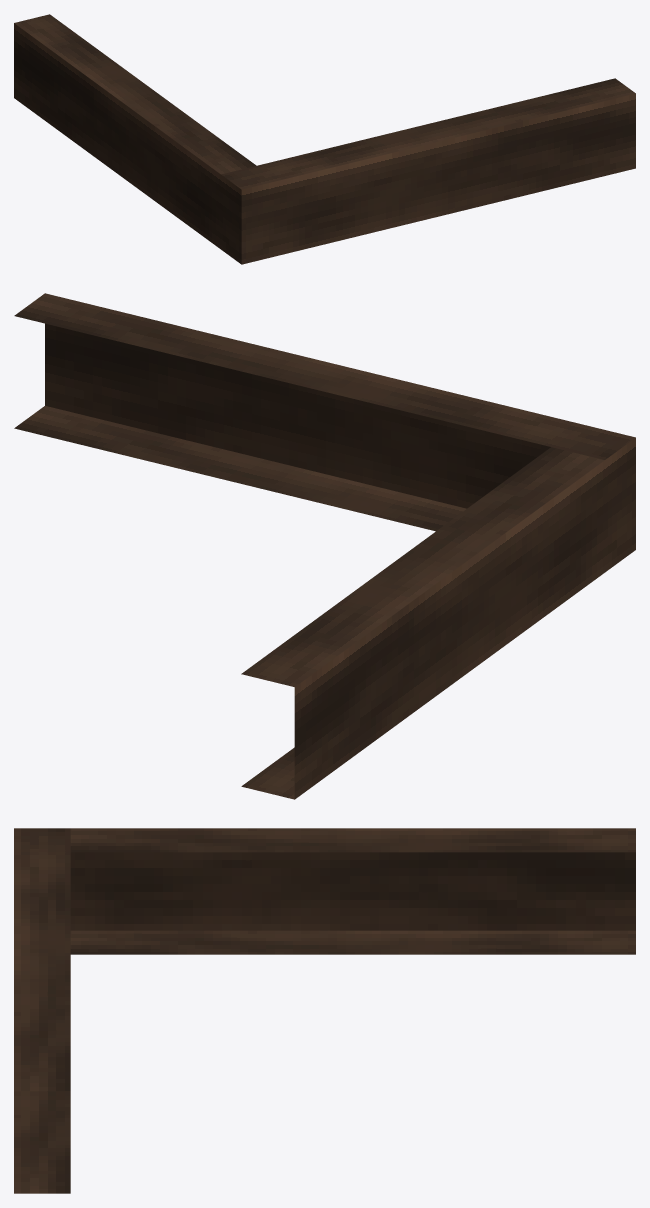
File: floor_beam_corner_1.glb
The picture shows the model from 3 angles, top to bottom: view 1: azimuth 30°, elevation 25°; view 2: azimuth 150°, elevation 25°; view 3: azimuth 270°, elevation 25°; orthographic projection. The views are drawn at different scales.
Parts seen in each view (by area): view 1: floor_beam_corner_1; view 2: floor_beam_corner_1; view 3: floor_beam_corner_1.
Part boxes in pixels (x1,y1,x2,y2): floor_beam_corner_1: (14,14,635,264); floor_beam_corner_1: (14,293,635,799); floor_beam_corner_1: (14,828,635,1193).
Size of the model in its own units: 1.1 by 0.2 by 1.1.
1 material, 1 textured.
